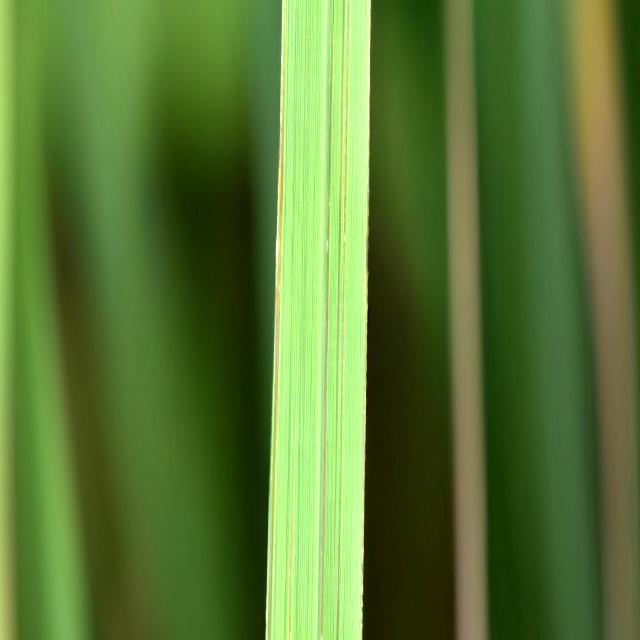BLS: (268, 0, 283, 640), (336, 0, 350, 640), (320, 0, 333, 640), (333, 0, 344, 640), (287, 514, 292, 640)
